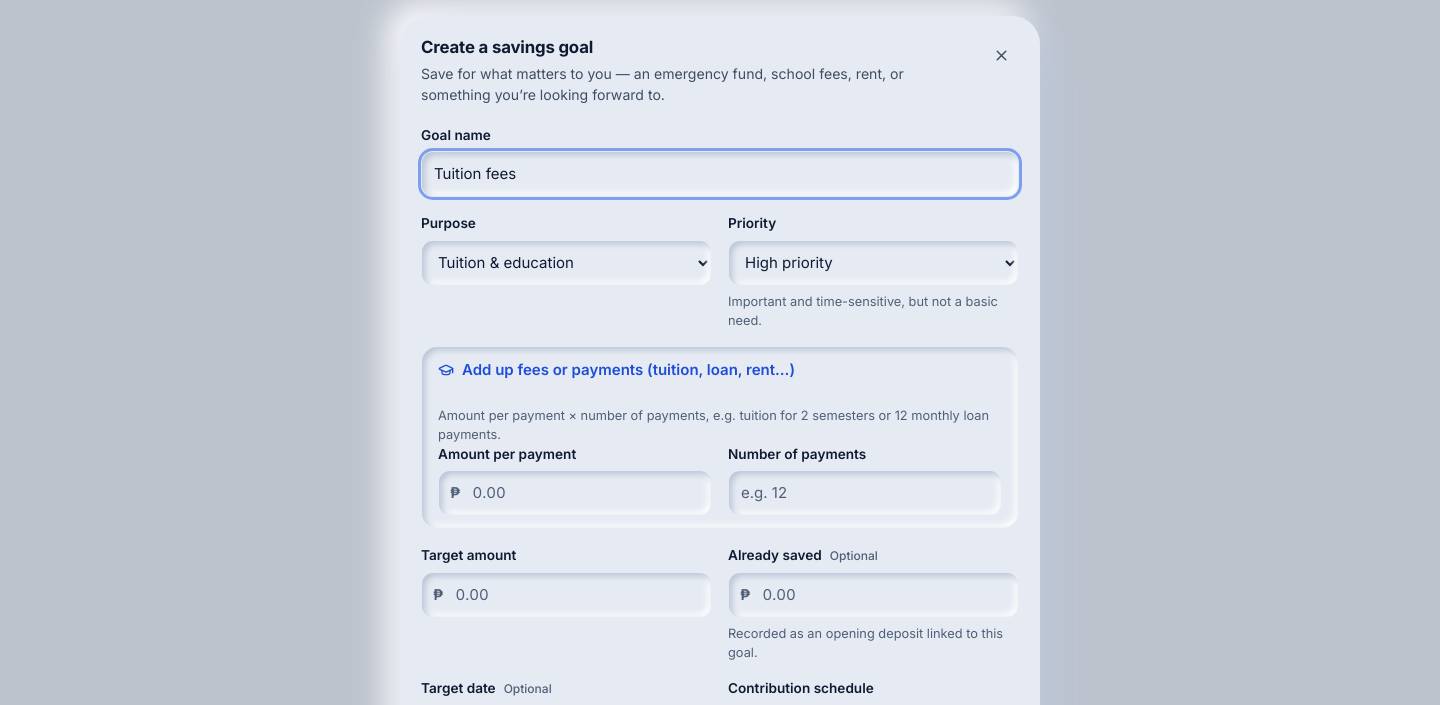
GoalModal planners for real-world goals › a tuition goal sums fees per semester
Type "25000" into the number field labelled "Amount per payment" at (575, 494), box [438, 470, 712, 516]
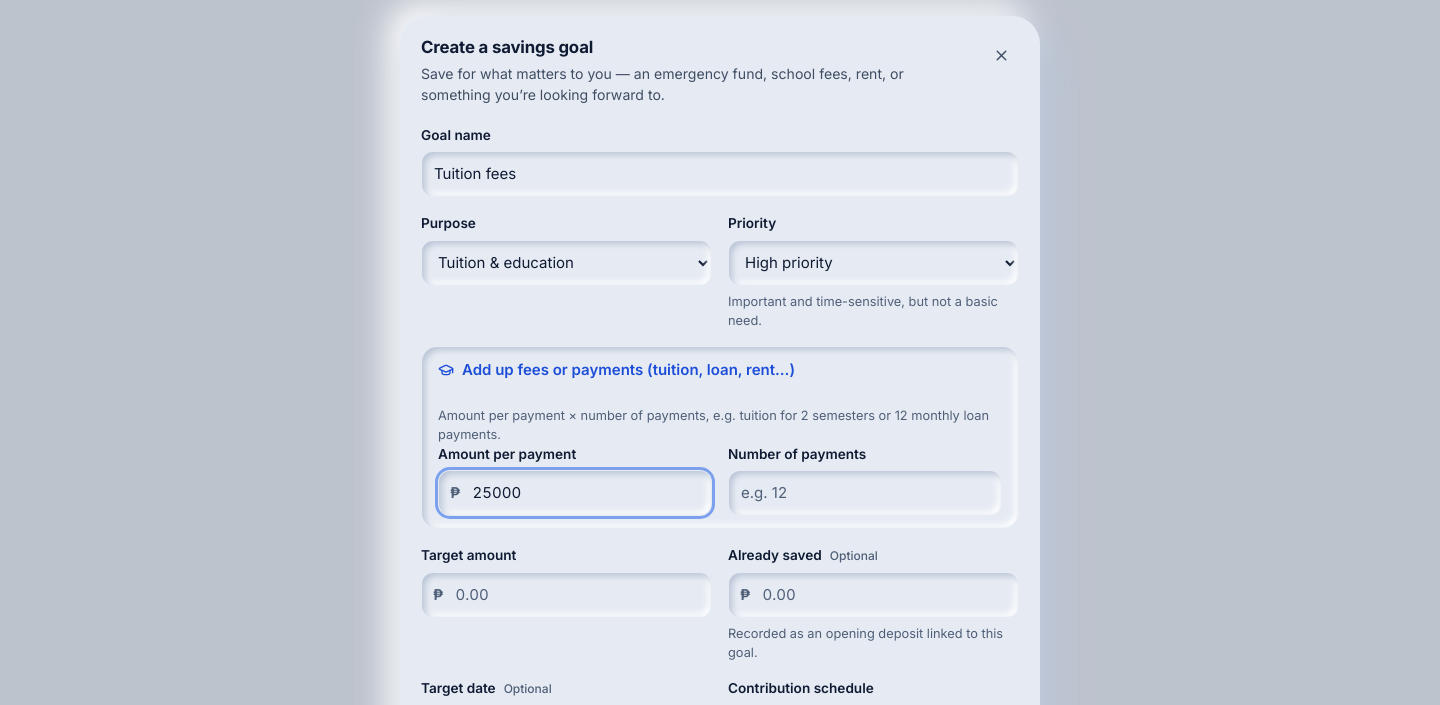
Type "2" into the field labelled "Number of payments" at (865, 494), box [728, 470, 1002, 516]
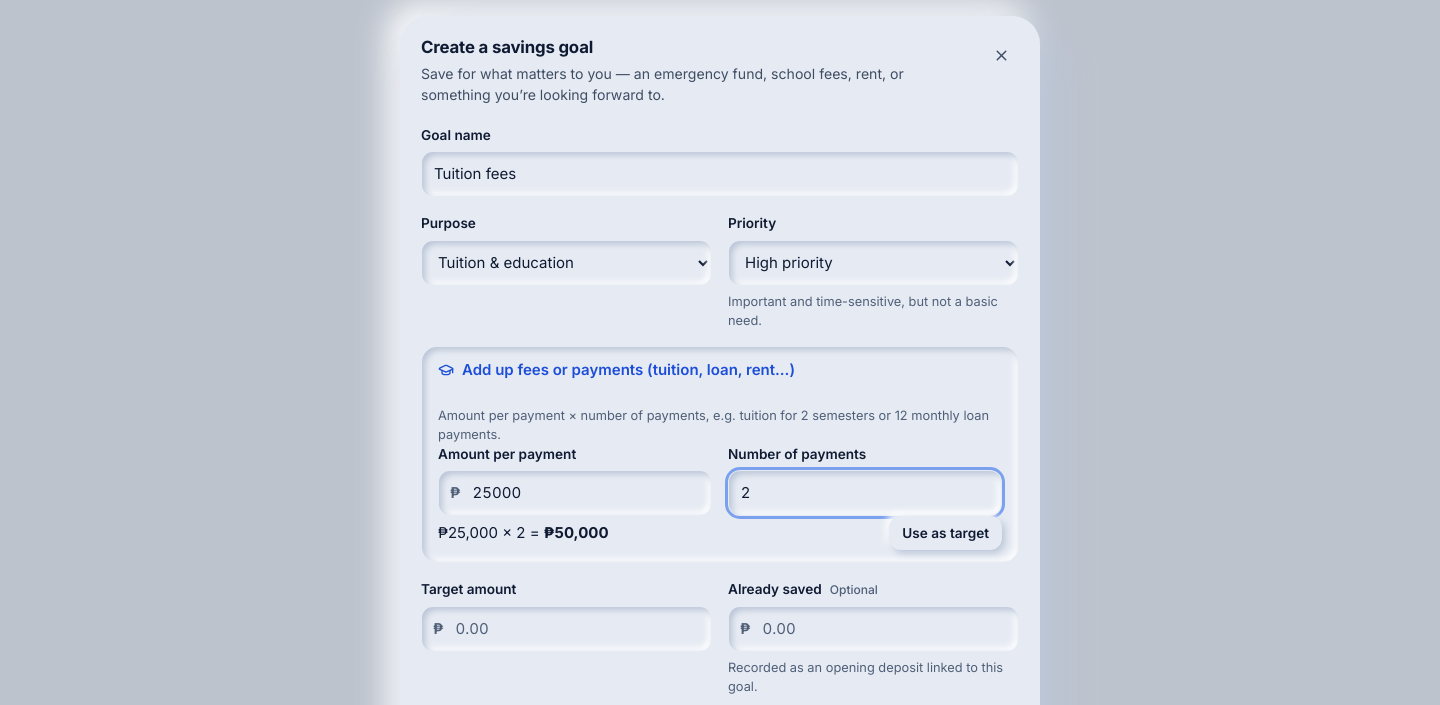
Click the button "Use as target" at (946, 534), box [889, 516, 1002, 550]
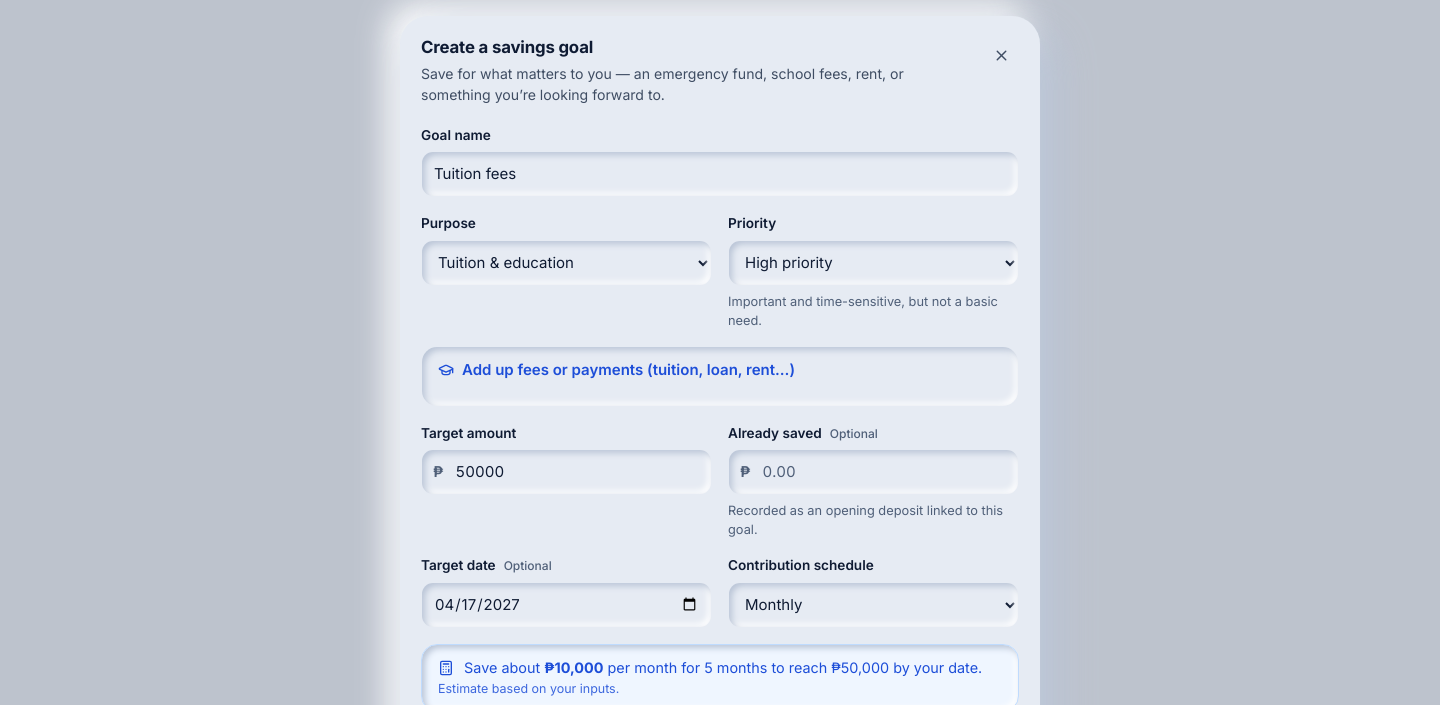
Check: the number field labelled "Target amount" holds "50000", box [421, 449, 712, 495]
